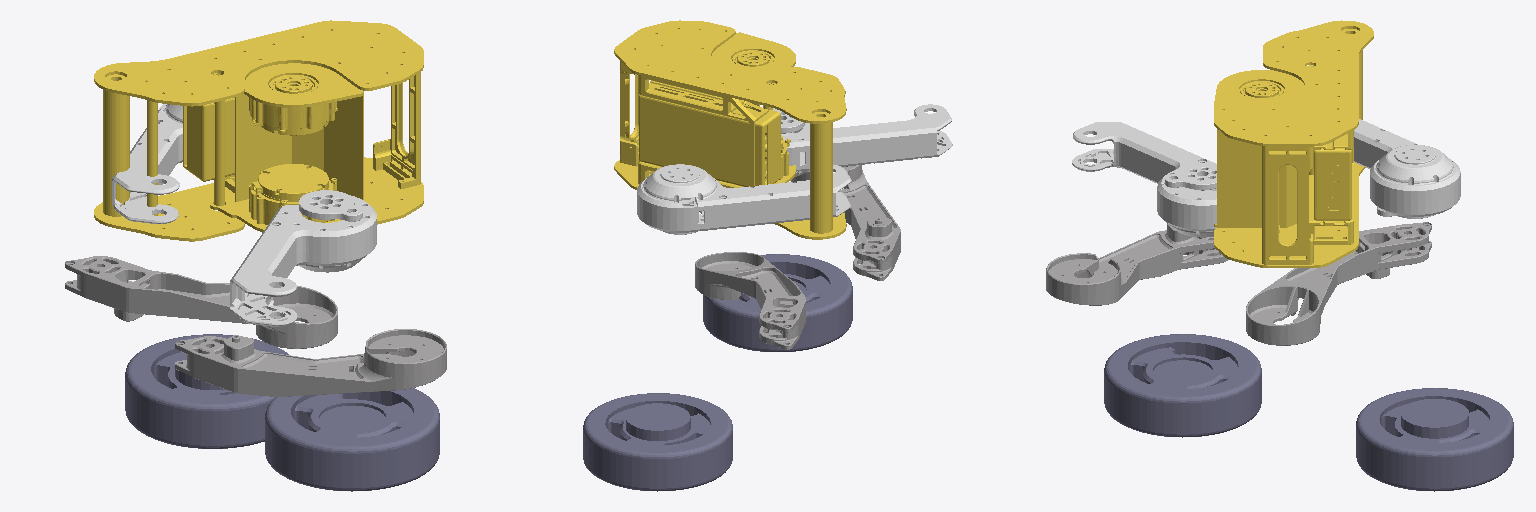
The robot description file, URDF, robot "wfs":
<?xml version="1.0" encoding="utf-8"?>
<!-- This URDF was automatically created by SolidWorks to URDF Exporter! Originally created by [author] ([email redacted]) 
     Commit Version: 1.6.0-4-g7f85cfe  Build Version: 1.6.7995.38578
     For more information, please see http://wiki.ros.org/sw_urdf_exporter -->
<robot
  name="wfs">
  <link
    name="base_link">
      <origin xyz="-0.014337 1.1818E-06 -0.0061469" rpy="0 0 0" />
    <inertial>
      <mass value="1.5" />
      <origin xyz="0 0 0" rpy="0 0 0" />
      <inertia ixx="0.0011526" ixy="-5.7288E-08" ixz="0.00022324" iyy="0.0020641" iyz="4.2737E-08" izz="0.0023957" />
    </inertial>
    
    <visual>
      <origin
        xyz="0 0 0"
         rpy="-1.5708 0 0" />
      <geometry>
        <mesh
          filename="../meshes/base_link.STL" />
      </geometry>
      <material
        name="">
        <color
          rgba="0.949 0.85 0.349 1" />
      </material>
    </visual>
        <sensor name="accelerometer" type="imu">
      <origin xyz="0 0 0" rpy="0 0 0"/>
      <imu>
        <linear_acceleration>
          <noise type="gaussian">
            <mean>0.0</mean>
            <stddev>0.01</stddev>
          </noise>
        </linear_acceleration>
      </imu>
    </sensor>
    <collision>
      <origin
        xyz="0 0 0"
        rpy="0 0 0" />
      <geometry>
        <mesh
          filename="../meshes/base_link.STL" />
      </geometry>
    </collision>
  </link>
  <link
    name="la">
    <inertial>
      <origin
        xyz="-0.033704 -0.010899 -0.020545"
        rpy="0 0 0" />
      <mass
        value="0.7" />
      <inertia
        ixx="0.00019193"
        ixy="1.2227E-05"
        ixz="-0.00018272"
        iyy="0.00051959"
        iyz="7.4461E-06"
        izz="0.00033865" />
    </inertial>
    <visual>
      <origin
        xyz="0 0 0"
        rpy="-1.5708 0 0" />
      <geometry>
        <mesh
          filename="../meshes/la.STL" />
      </geometry>
      <material
        name="">
        <color
          rgba="0.902 0.902 0.902 1" />
      </material>
    </visual>
    <collision>
      <origin
        xyz="0 0 0"
        rpy="0 0 0" />
      <geometry>
        <mesh
          filename="../meshes/la.STL" />
      </geometry>
    </collision>
  </link>
  <joint
    name="laj"
    type="revolute">
    <origin
      xyz="-0.014207 0.1052 -0.0465"
      rpy="0 0 0" />
    <parent
      link="base_link" />
    <child
      link="la" />
    <axis
      xyz="0 -1 0" />
    <limit
      lower="-0.8"
      upper="2.0"
      effort="12"
      velocity="25.12" />
  </joint>
  <link
    name="ll">
    <inertial>
      <origin
        xyz="0.054145 0.0083245 -0.063627"
        rpy="0 0 0" />
      <mass
        value="0.28" />
      <inertia
        ixx="0.0002644"
        ixy="-4.2542E-05"
        ixz="0.00024918"
        iyy="0.00057209"
        iyz="3.4902E-05"
        izz="0.00033434" />
    </inertial>
    <visual>
      <origin
        xyz="0 0 0"
         rpy="-1.5708 0 0" />
      <geometry>
        <mesh
          filename="../meshes/ll.STL" />
      </geometry>
      <material
        name="">
        <color
          rgba="0.7137 0.7059 0.7059 1" />
      </material>
    </visual>
    <collision>
      <origin
        xyz="0 0 0"
        rpy="0 0 0" />
      <geometry>
        <mesh
          filename="../meshes/ll.STL" />
      </geometry>
    </collision>
  </link>
  <joint
    name="llj"
    type="revolute">
    <origin
      xyz="-0.11545 -0.0075 -0.11166"
      rpy="0 0 0" />
    <parent
      link="la" />
    <child
      link="ll" />
    <axis
      xyz="0 1 0" />
    <limit
      lower="-1.0"
      upper="0.68"
      effort="12."
      velocity="25.12." />
  </joint>
  <link
    name="lw">
    <inertial>
      <origin
        xyz="-1.4311E-05 0.027855 -1.1802E-05"
        rpy="0 0 0" />
      <mass
        value="0.832" />
      <inertia
        ixx="0.0012191"
        ixy="-1.4288E-07"
        ixz="1.8574E-07"
        iyy="0.0022205"
        iyz="-1.1784E-07"
        izz="0.001219" />
    </inertial>
    <visual>
      <origin
        xyz="0 0 0"
        rpy="-1.5708 0 0" />
      <geometry>
        <mesh
          filename="../meshes/lw.STL" />
      </geometry>
      <material
        name="">
        <color
          rgba="0.5 0.5 0.6 1" />
      </material>
    </visual>
    <collision>
      <origin
        xyz="0 0 0"
        rpy="0 0 0" />
      <geometry>
        <mesh
          filename="../meshes/lw.STL" />
      </geometry>
    </collision>
  </link>
  <joint
    name="lwj"
    type="revolute">
    <origin
      xyz="0.13092 0.027 -0.12321"
      rpy="0 0 0" />
    <parent
      link="ll" />
    <child
      link="lw" />
    <axis
      xyz="0 -1 0" />
    <limit
      effort="2."
      velocity="33.49" />
  </joint>
  <link
    name="ra">
    <inertial>
      <origin
        xyz="-0.033704 0.010899 -0.020545"
        rpy="0 0 0" />
      <mass
        value="0.7" />
      <inertia
        ixx="0.00019193"
        ixy="-1.2227E-05"
        ixz="-0.00018272"
        iyy="0.0005196"
        iyz="-7.4461E-06"
        izz="0.00033866" />
    </inertial>
    <visual>
      <origin
        xyz="0 0 0"
        rpy="-1.5708 0 0" />
      <geometry>
        <mesh
          filename="../meshes/ra.STL" />
      </geometry>
      <material
        name="">
        <color
          rgba="0.902 0.902 0.902 1" />
      </material>
    </visual>
    <collision>
      <origin
        xyz="0 0 0"
        rpy="0 0 0" />
      <geometry>
        <mesh
          filename="../meshes/ra.STL" />
      </geometry>
    </collision>
  </link>
  <joint
    name="raj"
    type="revolute">
    <origin
      xyz="-0.014207 -0.1052 -0.0465"
      rpy="0 0 0" />
    <parent
      link="base_link" />
    <child
      link="ra" />
    <axis
      xyz="0 1 0" />
    <limit
      lower="-0.8"
      upper="2."
      effort="12."
      velocity="25.12." />
  </joint>
  <link
    name="rl">
    <inertial>
      <origin
        xyz="0.054146 -0.0083247 -0.063628"
        rpy="0 0 0" />
      <mass
        value="0.28" />
      <inertia
        ixx="0.00026441"
        ixy="4.2543E-05"
        ixz="0.00024918"
        iyy="0.00057211"
        iyz="-3.4903E-05"
        izz="0.00033435" />
    </inertial>
    <visual>
      <origin
        xyz="0 0 0"
        rpy="-1.5708 0 0" />
      <geometry>
        <mesh
          filename="../meshes/rl.STL" />
      </geometry>
      <material
        name="">
        <color
          rgba="0.7137 0.7059 0.7059 1" />
      </material>
    </visual>
    <collision>
      <origin
        xyz="0 0 0"
        rpy="0 0 0" />
      <geometry>
        <mesh
          filename="../meshes/rl.STL" />
      </geometry>
    </collision>
  </link>
  <joint
    name="rlj"
    type="revolute">
    <origin
      xyz="-0.11545 0.0075 -0.11166"
      rpy="0 0 0" />
    <parent
      link="ra" />
    <child
      link="rl" />
    <axis
      xyz="0 -1 0" />
    <limit
      lower="-0.68"
      upper="1.0"
      effort="12"
      velocity="25.12." />
  </joint>
  <link
    name="rw">
    <inertial>
      <origin
        xyz="-1.4311E-05 -0.027855 -1.1802E-05"
        rpy="0 0 0" />
      <mass
        value="0.832" />
      <inertia
        ixx="0.0012191"
        ixy="1.4288E-07"
        ixz="1.8574E-07"
        iyy="0.0022205"
        iyz="1.1784E-07"
        izz="0.001219" />
    </inertial>
    <visual>
      <origin
        xyz="0 0 0"
        rpy="-1.5708 0 0" />
      <geometry>
        <mesh
          filename="../meshes/rw.STL" />
      </geometry>
      <material
        name="">
        <color
          rgba="0.5 0.5 0.6 1" />
      </material>
    </visual>
    <collision>
      <origin
        xyz="0 0 0"
        rpy="0 0 0" />
      <geometry>
        <mesh
          filename="../meshes/rw.STL" />
      </geometry>
    </collision>
  </link>
  <joint
    name="rwj"
    type="revolute">
    <origin
      xyz="0.13092 -0.027 -0.12321"
      rpy="0 0 0" />
    <parent
      link="rl" />
    <child
      link="rw" />
    <axis
      xyz="0 1 0" />
    <limit
       effort="2."
      velocity="33.49" />
  </joint>
</robot>

--- Render facts (derived) ---
3 views of the same robot in one strip: view 1: azimuth 30°, elevation 25°; view 2: azimuth 150°, elevation 25°; view 3: azimuth 270°, elevation 25° (orthographic).
Robot: wfs — 7 links, 6 joints (6 revolute); root link base_link; default pose: all joints at 0.
Links seen in each view (by area): view 1: base_link, rw, rl, ra, ll, lw, la; view 2: base_link, lw, la, rw, ra, ll, rl; view 3: base_link, lw, rw, ll, ra, rl, la.
Boxes of the visible links, left/top/right/bottom form: base_link: left=94, top=20, right=423, bottom=241; rw: left=265, top=388, right=439, bottom=491; rl: left=175, top=329, right=446, bottom=396; ra: left=230, top=190, right=376, bottom=326; ll: left=65, top=256, right=337, bottom=348; lw: left=125, top=334, right=288, bottom=448; la: left=112, top=104, right=182, bottom=223; base_link: left=614, top=20, right=846, bottom=239; lw: left=583, top=393, right=732, bottom=491; la: left=637, top=164, right=851, bottom=234; rw: left=703, top=254, right=852, bottom=351; ra: left=773, top=104, right=952, bottom=176; ll: left=695, top=252, right=805, bottom=349; rl: left=791, top=165, right=900, bottom=280; base_link: left=1214, top=20, right=1373, bottom=267; lw: left=1356, top=388, right=1513, bottom=491; rw: left=1104, top=334, right=1261, bottom=437; ll: left=1246, top=222, right=1431, bottom=345; ra: left=1072, top=122, right=1216, bottom=237; rl: left=1046, top=223, right=1228, bottom=305; la: left=1354, top=119, right=1460, bottom=218.
Bounding box of the posed robot: 0.289 × 0.4628 × 0.4009 m (x, y, z).
7 mesh visuals loaded from 7 distinct referenced files (7 binary STL).